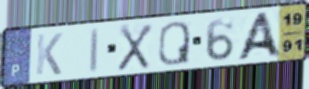6: (204, 16, 236, 62)
A: (233, 10, 283, 62)
I: (88, 26, 101, 74)
K: (33, 31, 64, 77)
Q: (156, 19, 192, 67)
X: (115, 22, 155, 73)
